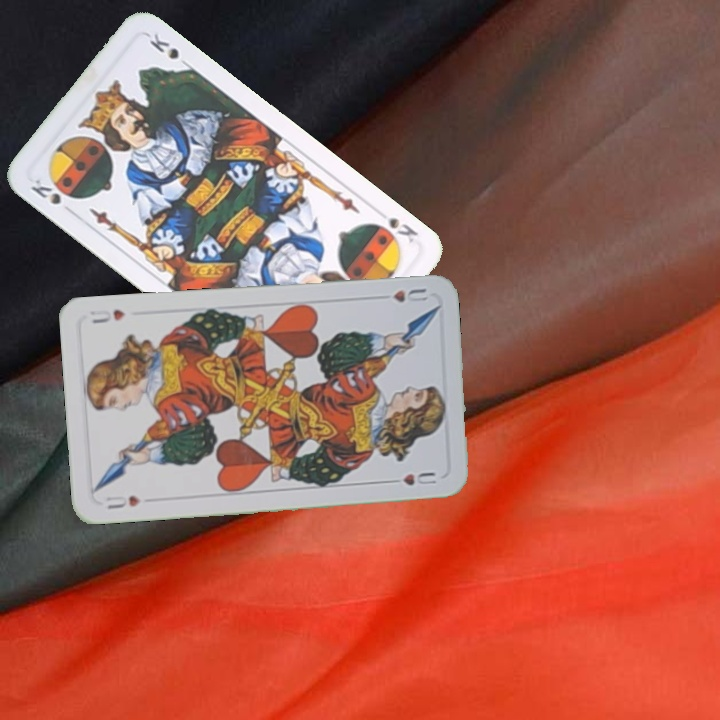HU: (389, 284, 431, 305), (102, 491, 143, 512)
SK: (26, 174, 64, 208), (385, 213, 421, 245)
